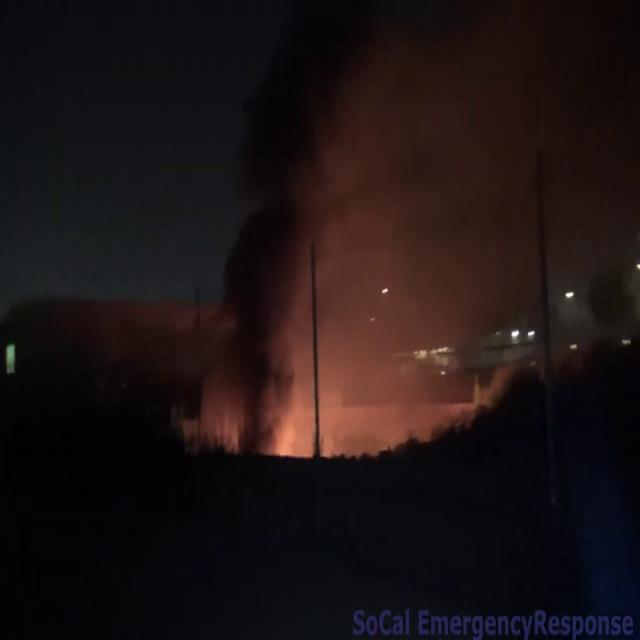Smoke: (196, 8, 520, 455)
